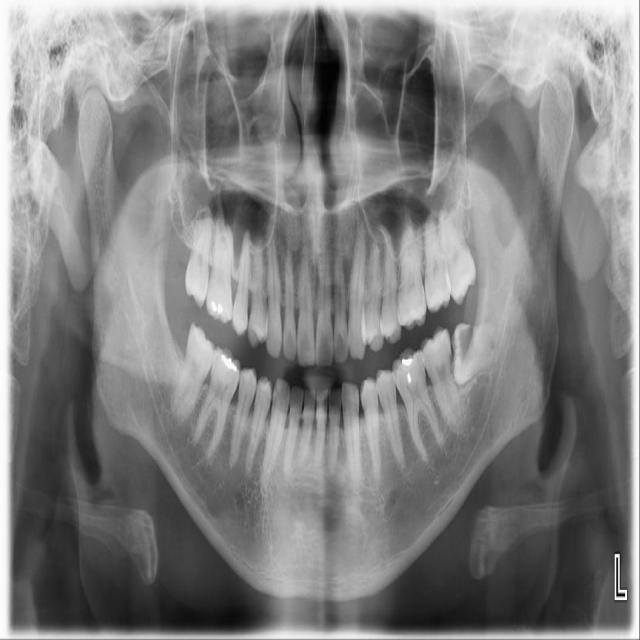Caries: (458, 326, 474, 362)
Filling: (395, 355, 425, 385), (208, 296, 232, 317), (219, 352, 239, 373)
impacted tooth: (451, 316, 500, 381)
